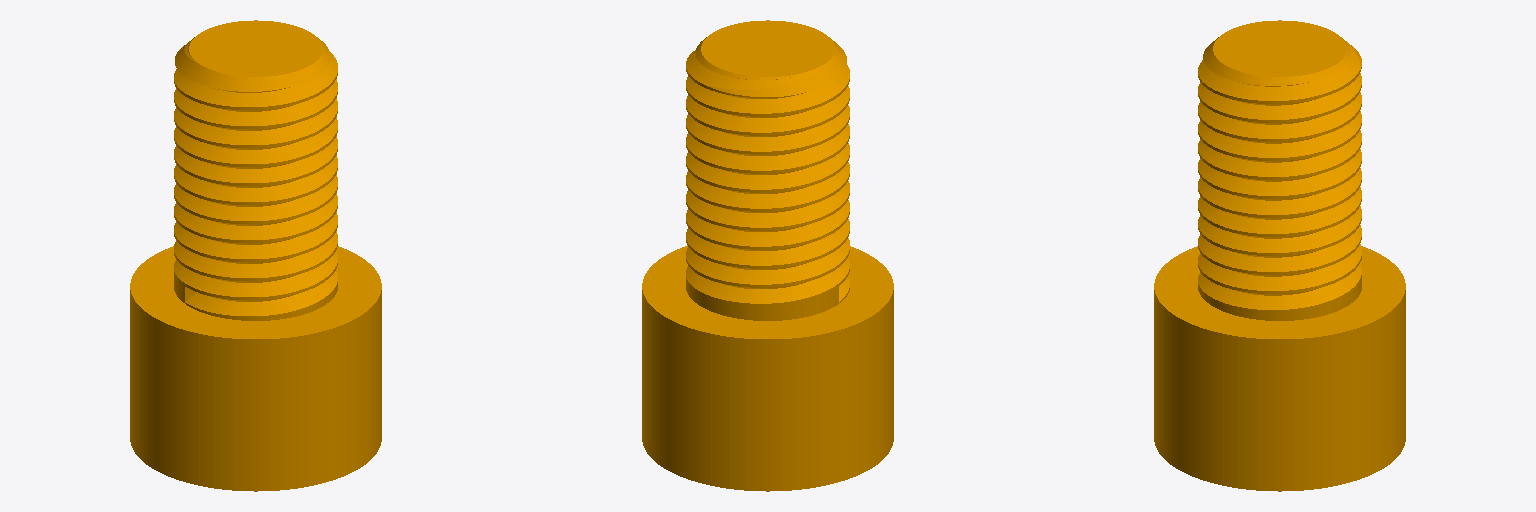
robot.urdf — factory_bolt_m16_loose:
<?xml version="1.0"?>
<robot name="factory_bolt_m16_loose">
    <link name="factory_bolt_m16_loose">
        <visual>
            <geometry>
                <mesh filename="../mesh/factory_nut_bolt/factory_bolt_m16_loose.obj"/>
            </geometry>
        </visual>
        <collision>
            <geometry>
                <mesh filename="../mesh/factory_nut_bolt/factory_bolt_m16_loose.obj"/>
            </geometry>
            <sdf resolution="512"/>
        </collision>
    </link>
</robot>

--- What the picture shows (computed from the rendered views, not written in the file) ---
3 views of the same robot in one strip: view 1: azimuth 30°, elevation 25°; view 2: azimuth 150°, elevation 25°; view 3: azimuth 270°, elevation 25° (orthographic).
Robot: factory_bolt_m16_loose — 1 links, 0 joints (none); root link factory_bolt_m16_loose; default pose: every joint at zero.
Links seen in each view (by area): view 1: factory_bolt_m16_loose; view 2: factory_bolt_m16_loose; view 3: factory_bolt_m16_loose.
Link boxes in pixels (bbox=[...]): factory_bolt_m16_loose: bbox=[130, 20, 381, 491]; factory_bolt_m16_loose: bbox=[642, 20, 893, 491]; factory_bolt_m16_loose: bbox=[1154, 20, 1405, 491].
Size in the robot's own frame: 0.024 by 0.024 by 0.041 metres.
Meshes: 1 distinct files referenced, 1 mesh visuals loaded (1 OBJ).